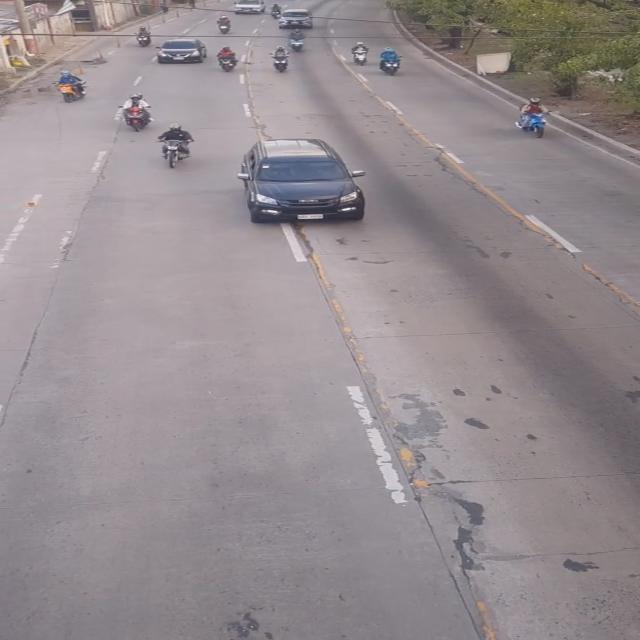car: (242, 136, 366, 228), (155, 35, 207, 63)
motorbike: (508, 93, 552, 136), (159, 122, 191, 172), (122, 91, 154, 135), (54, 70, 90, 102), (379, 48, 401, 76)
